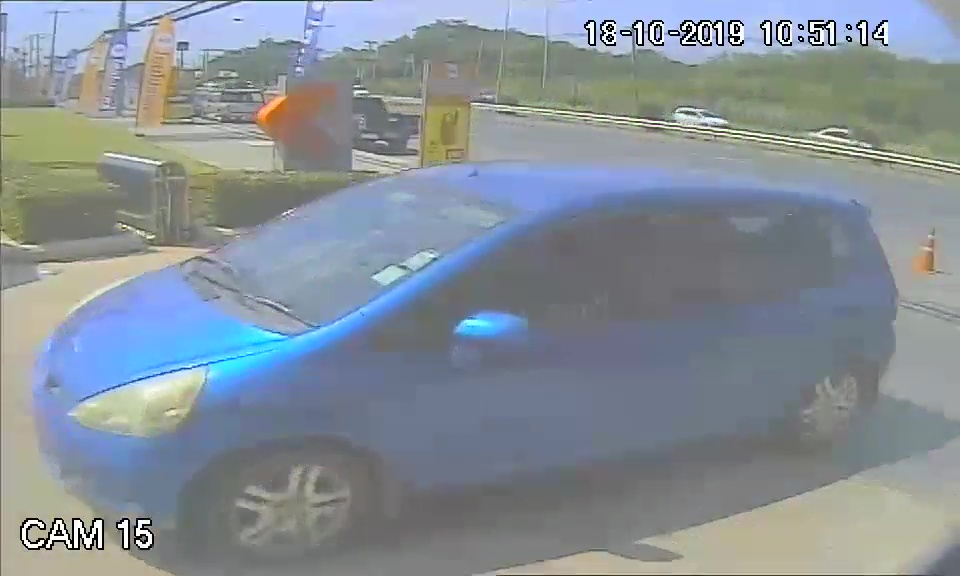sedan: (30, 157, 902, 524)
